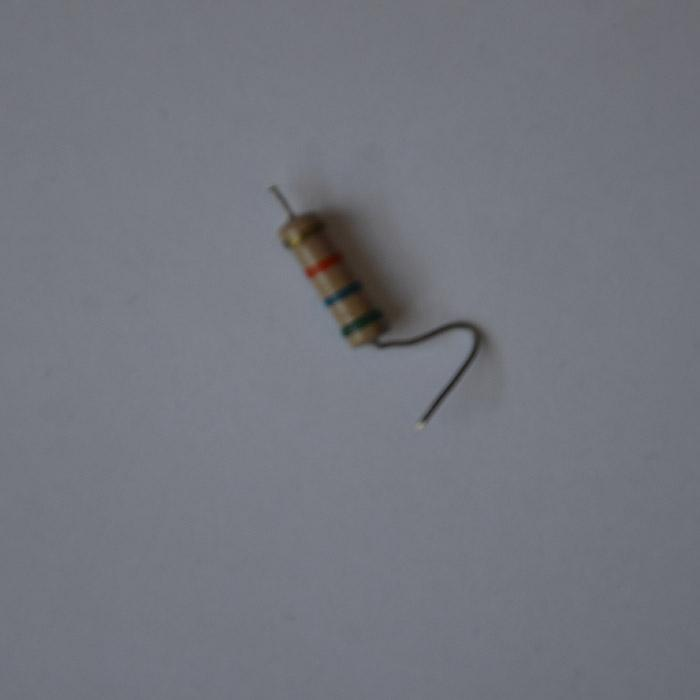resistor: (274, 192, 385, 348)
